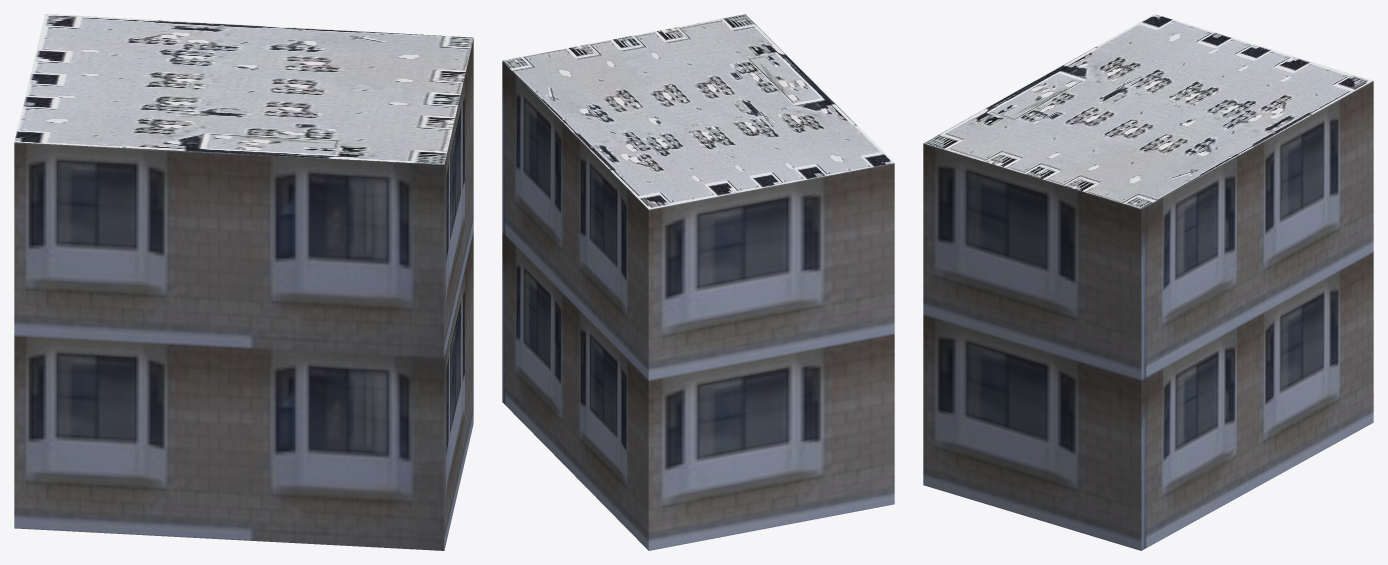
Rendered from ResTex__1880.fbx.
3 renders of one model, left to right at view 1: azimuth 30°, elevation 25°; view 2: azimuth 150°, elevation 25°; view 3: azimuth 270°, elevation 25°, orthographic. The views are drawn at different scales.
Parts seen in each view (by area): view 1: CityEngineMaterial_3_m, CityEngineMaterial_8_m; view 2: CityEngineMaterial_3_m, CityEngineMaterial_8_m; view 3: CityEngineMaterial_3_m, CityEngineMaterial_8_m.
Boxes of the visible parts, box(x1,y1,x2,y2) form: CityEngineMaterial_3_m: box(14, 38, 473, 550); CityEngineMaterial_8_m: box(14, 14, 473, 164); CityEngineMaterial_3_m: box(502, 61, 894, 550); CityEngineMaterial_8_m: box(502, 14, 894, 209); CityEngineMaterial_3_m: box(923, 81, 1373, 550); CityEngineMaterial_8_m: box(923, 14, 1373, 208).
Bounding box in the file's own units: 7.35 × 6 × 7.16.
2 materials, 2 textured.
